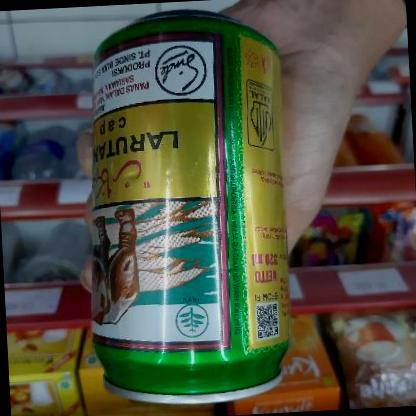alumunium_can: (61, 0, 314, 416)
